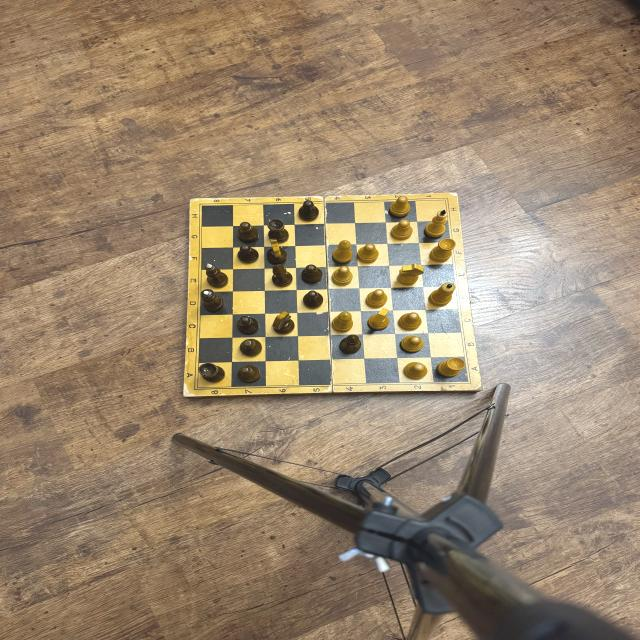black-bishop: (339, 334, 362, 354), (272, 264, 292, 287)
black-king: (204, 264, 228, 288)
black-knight: (272, 310, 296, 335), (266, 239, 288, 264)
black-pawn: (298, 200, 319, 222), (301, 264, 323, 284), (238, 222, 260, 242), (237, 244, 259, 264), (237, 316, 260, 335), (237, 365, 261, 383), (240, 338, 262, 356), (303, 290, 323, 309)
black-queen: (200, 288, 225, 312)
black-rook: (198, 363, 226, 383), (268, 220, 289, 243)
white-bishop: (332, 240, 353, 264), (332, 311, 353, 333)
white-king: (425, 209, 448, 238)
white-knight: (397, 263, 424, 286), (368, 308, 390, 330)
white-pawn: (389, 219, 414, 240), (390, 195, 411, 218), (331, 266, 353, 286), (400, 335, 424, 353), (403, 362, 428, 379), (366, 289, 388, 308), (357, 244, 379, 262), (399, 312, 421, 330)
white-queen: (428, 282, 456, 306)
white-rook: (430, 238, 456, 262), (437, 358, 465, 378)
